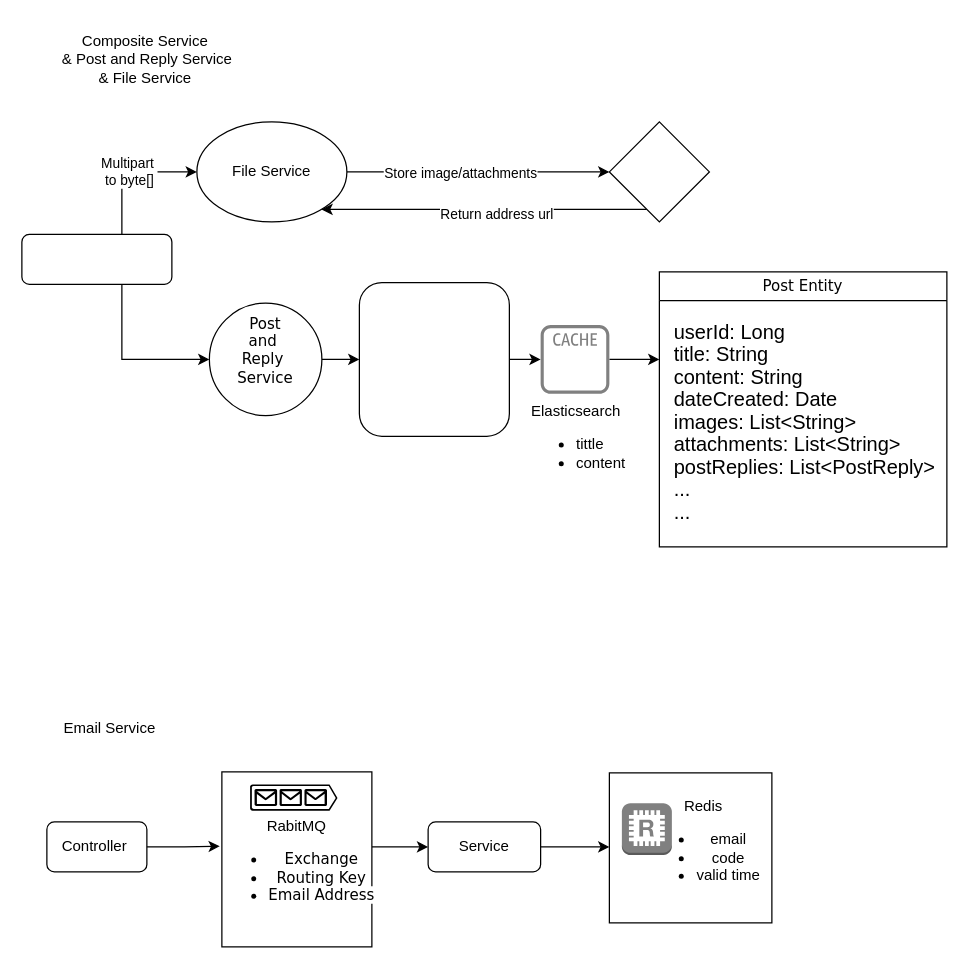
The diagram is 969 pixels wide and 969 high, and some of its shapes have lost their labels. The shapes that lost their labels are listed below. From the top down, each one's centre as x and y in pixels, then its label:
[658,171]: Azure Blob Storage
[96,258]: Composite Service
[433,358]: Layer Structure Controller Service Dao (Spring Data) Entity Exception
